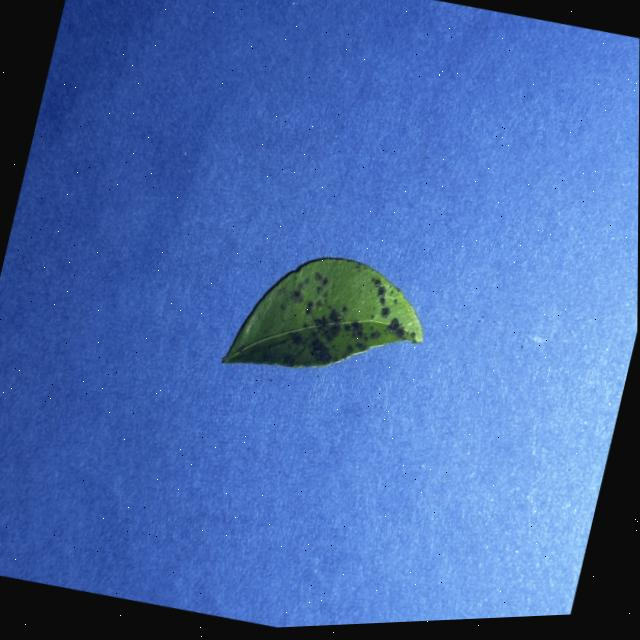sooty_mold: (223, 257, 422, 366)
